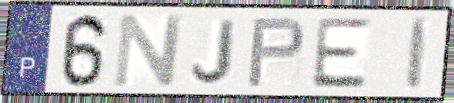6: (61, 11, 111, 89)
E: (308, 15, 373, 91)
I: (403, 16, 433, 92)
J: (189, 17, 240, 87)
N: (110, 12, 187, 89)
P: (244, 15, 308, 89)
